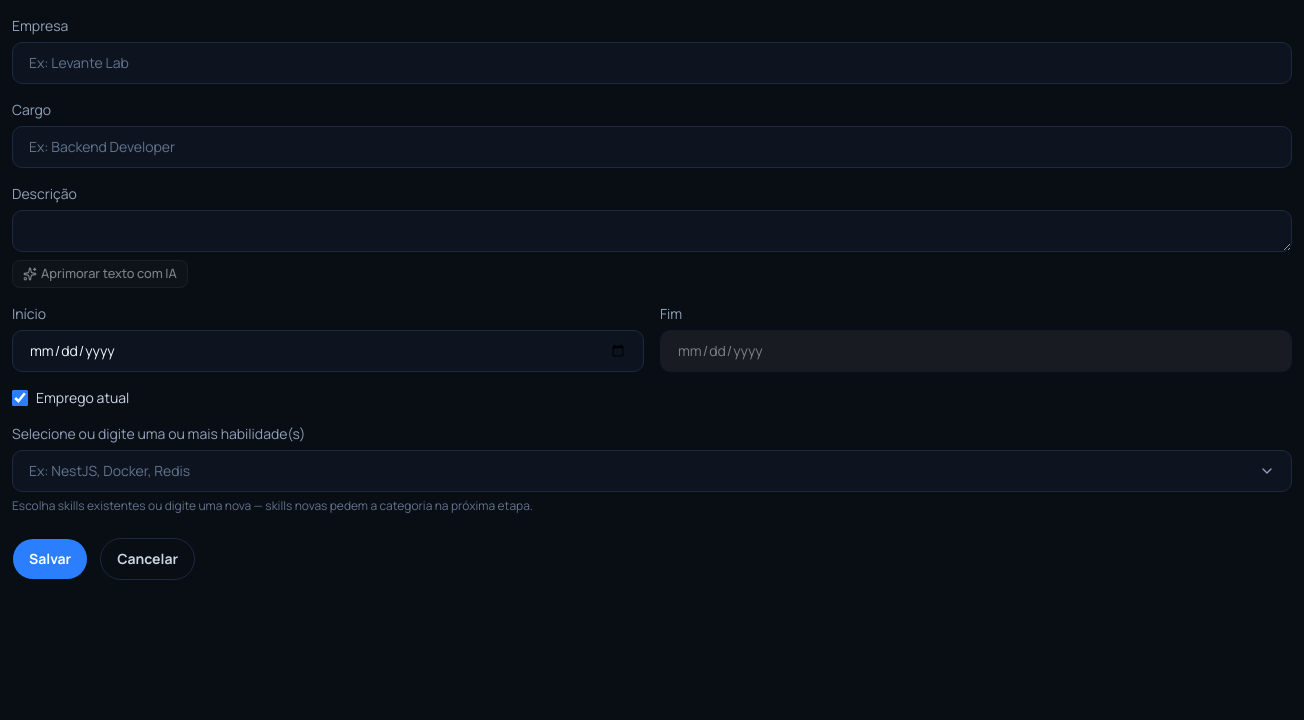
it: ExperienceForm › shows validation errors without submitting
Click the button "Salvar": point(50, 559) [12, 538, 88, 580]
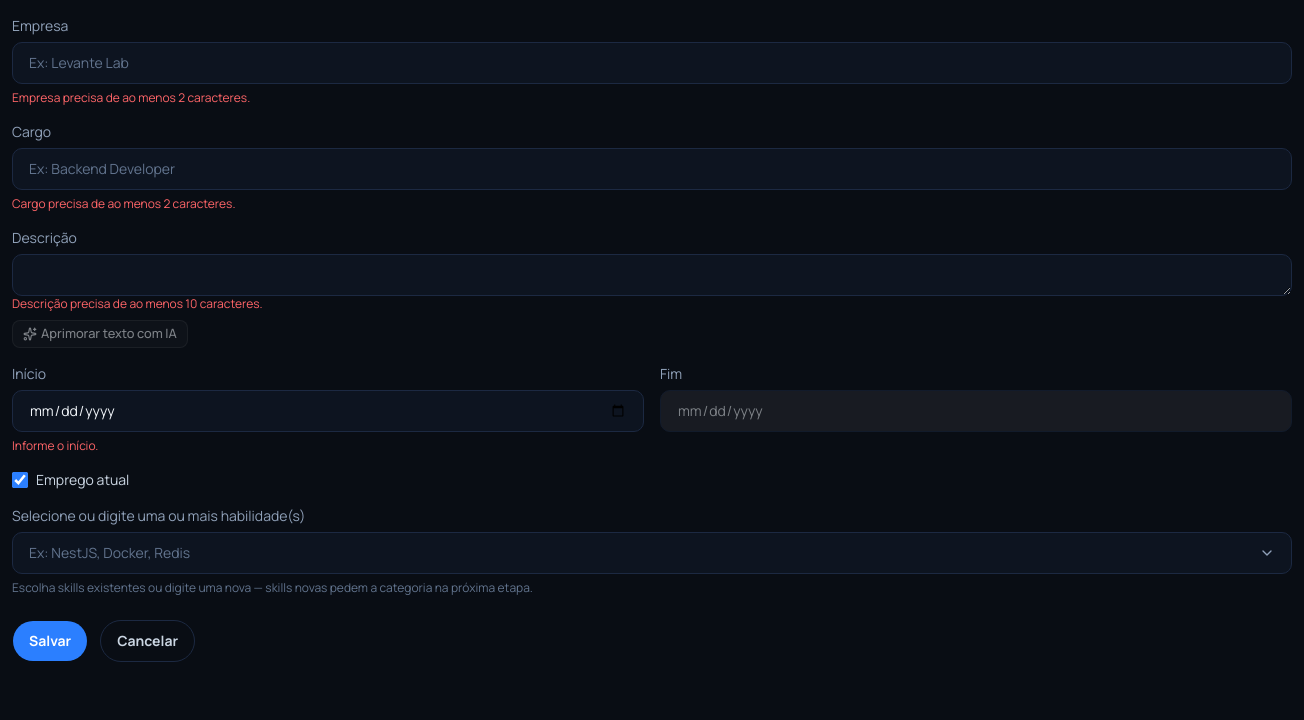
Now the text "Empresa precisa de ao menos 2 caracteres." is shown, box [12, 89, 250, 106]
